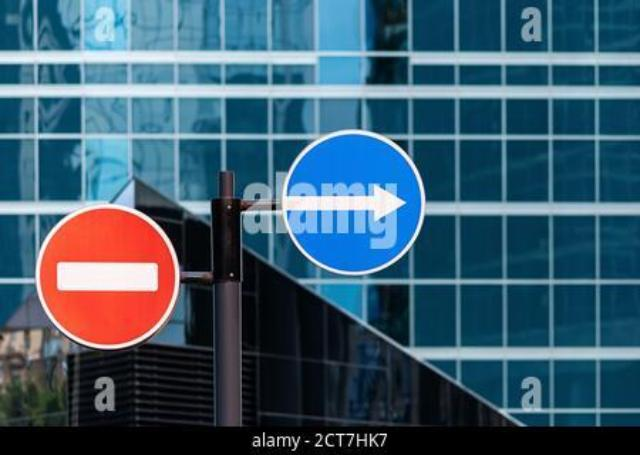B2: (34, 202, 180, 351)
